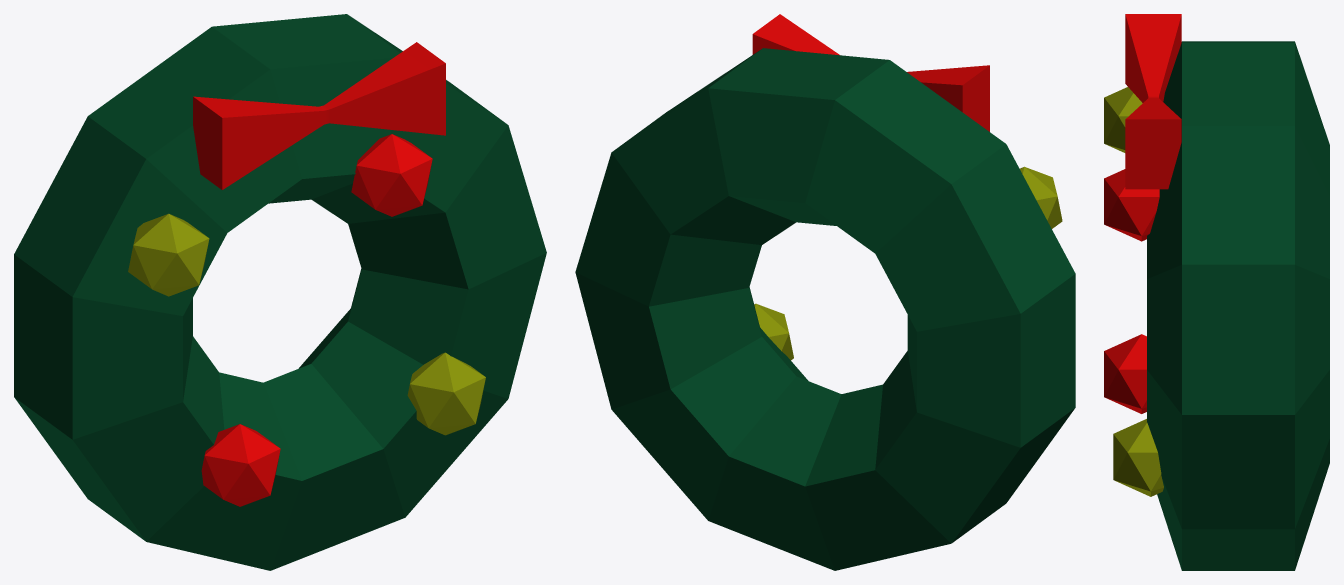
Rendered from Xmaswreath.fbx.
3 views of the same model, side by side, from view 1: azimuth 30°, elevation 25°; view 2: azimuth 150°, elevation 25°; view 3: azimuth 270°, elevation 25° (orthographic). The views are drawn at different scales.
Parts seen in each view (by area): view 1: Xmaswreath; view 2: Xmaswreath; view 3: Xmaswreath.
Boxes of the visible parts, x1=… form: Xmaswreath: x1=14, y1=14, x2=546, y2=570; Xmaswreath: x1=575, y1=14, x2=1075, y2=570; Xmaswreath: x1=1104, y1=14, x2=1329, y2=570.
Size of the model in its own units: 0.0212 by 0.0214 by 0.00905.
